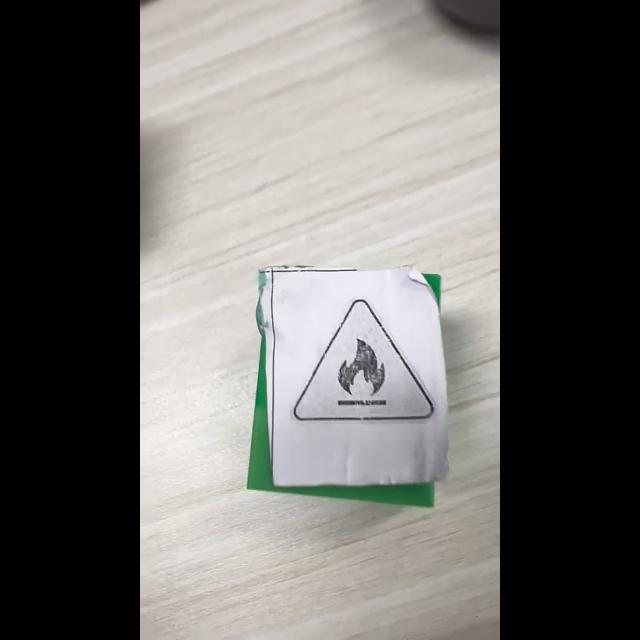Fire: (293, 299, 434, 421)
